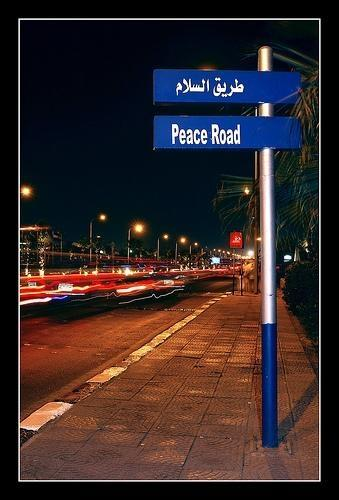car: (115, 269, 184, 304)
